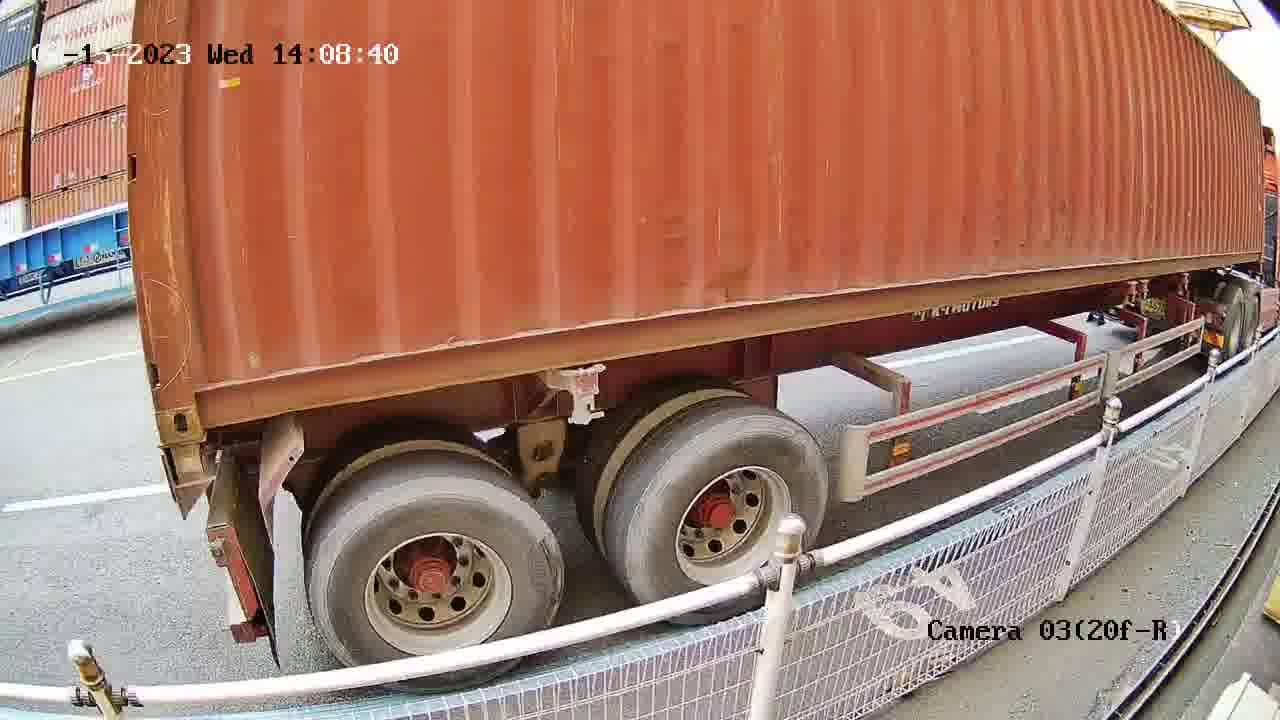Cone: (170, 436, 211, 494)
Hole_L: (140, 331, 283, 444)
Tire: (310, 476, 567, 663), (624, 422, 823, 599)
